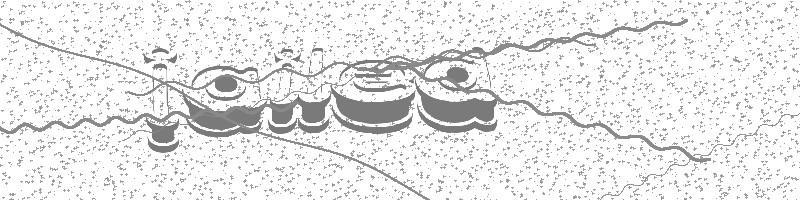a: (181, 64, 268, 139)
d: (416, 46, 500, 134)
e: (331, 58, 416, 136)
i: (141, 45, 181, 154), (268, 47, 297, 135)
l: (298, 47, 331, 133)
